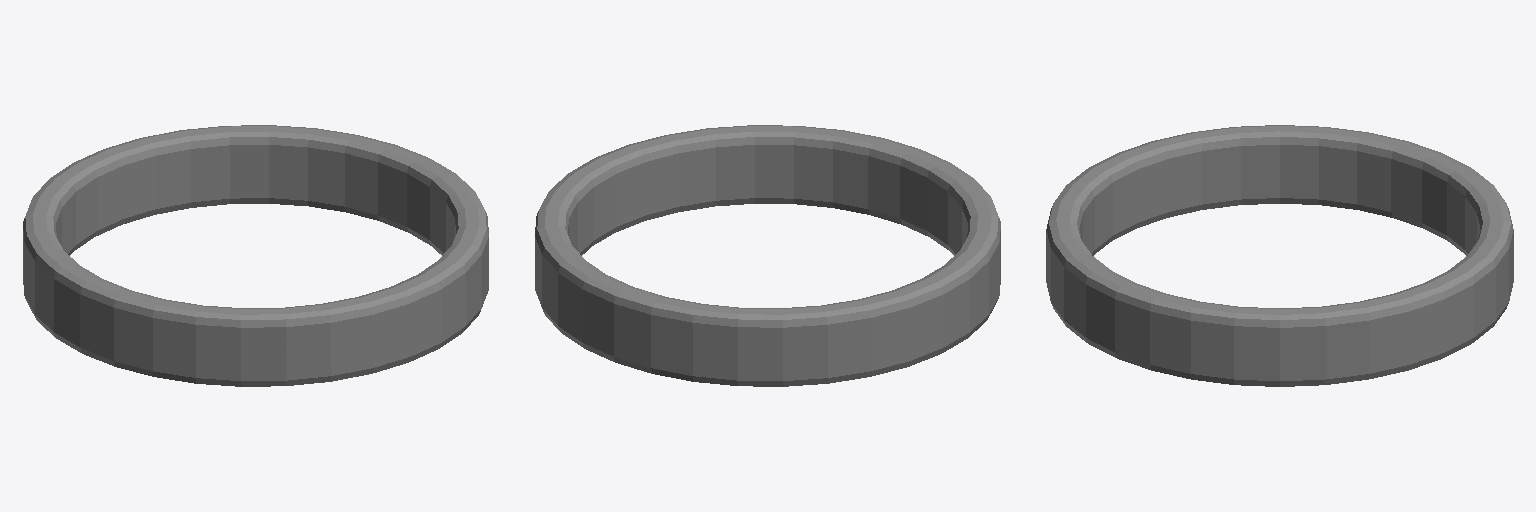
Rendered from ring.obj.
3 renders of one model, left to right at view 1: azimuth 30°, elevation 25°; view 2: azimuth 150°, elevation 25°; view 3: azimuth 270°, elevation 25°, orthographic.
Bounding box in the file's own units: 3.61 × 0.6083 × 3.61.